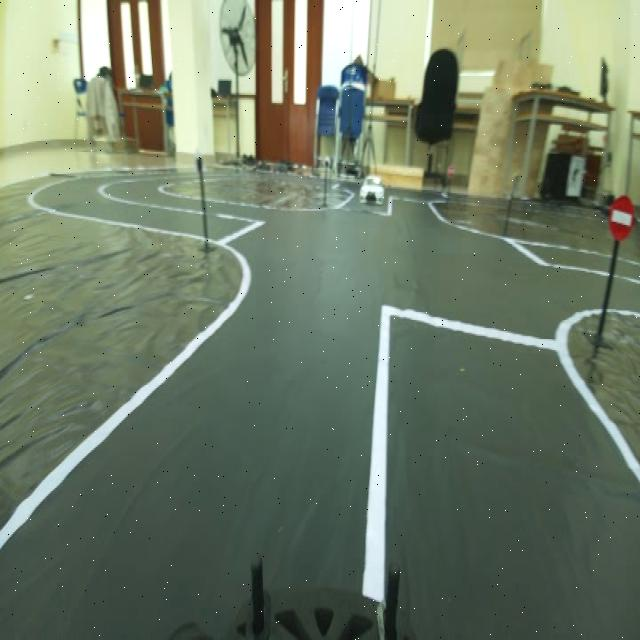no_entry: (602, 184, 634, 244)
